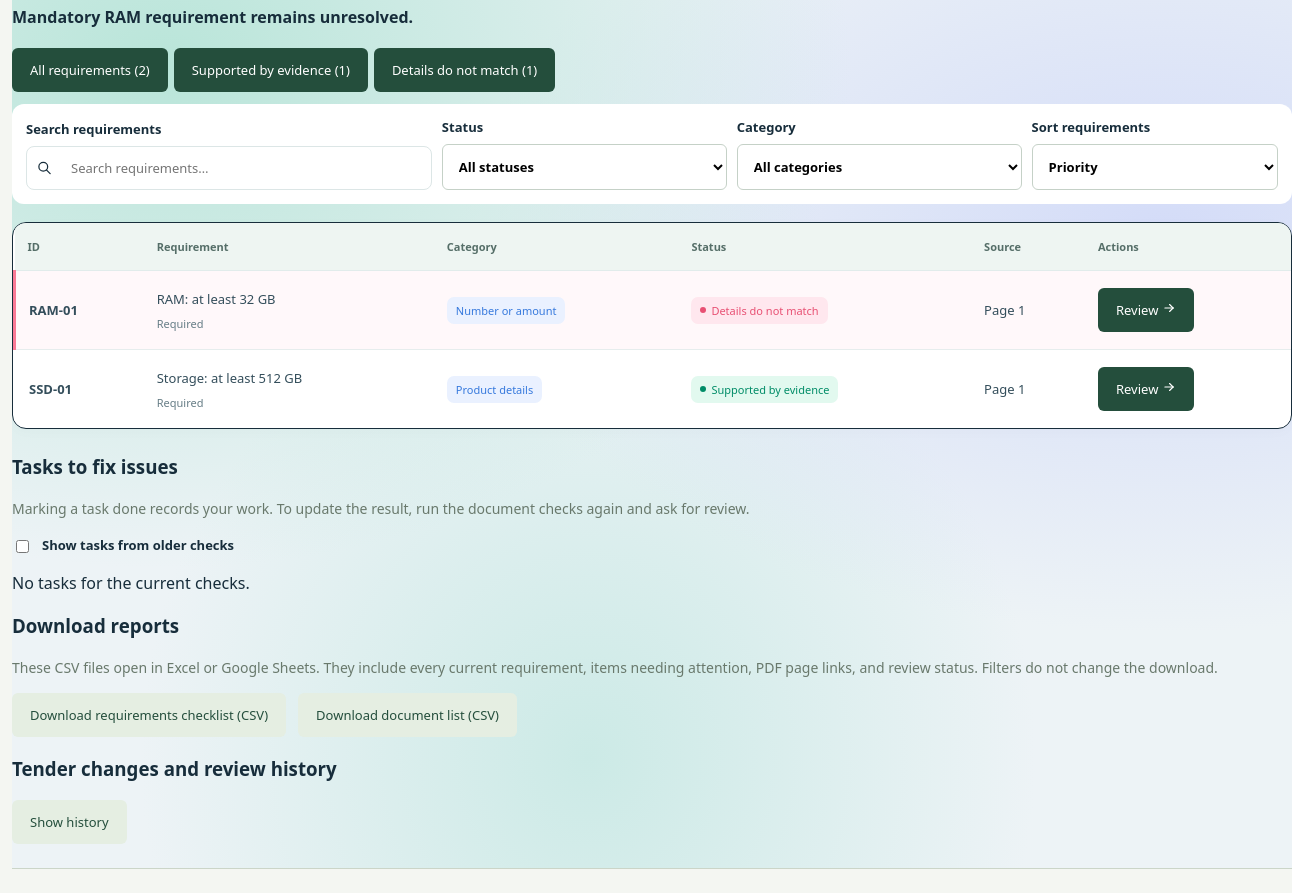
Scenario: supplier dashboard › loads saved version and approval timeline with timestamps
The image size is (1292, 893).
(page scrolled)
Click the button "Show history": (69, 822) [12,800,126,844]
(page scrolled)
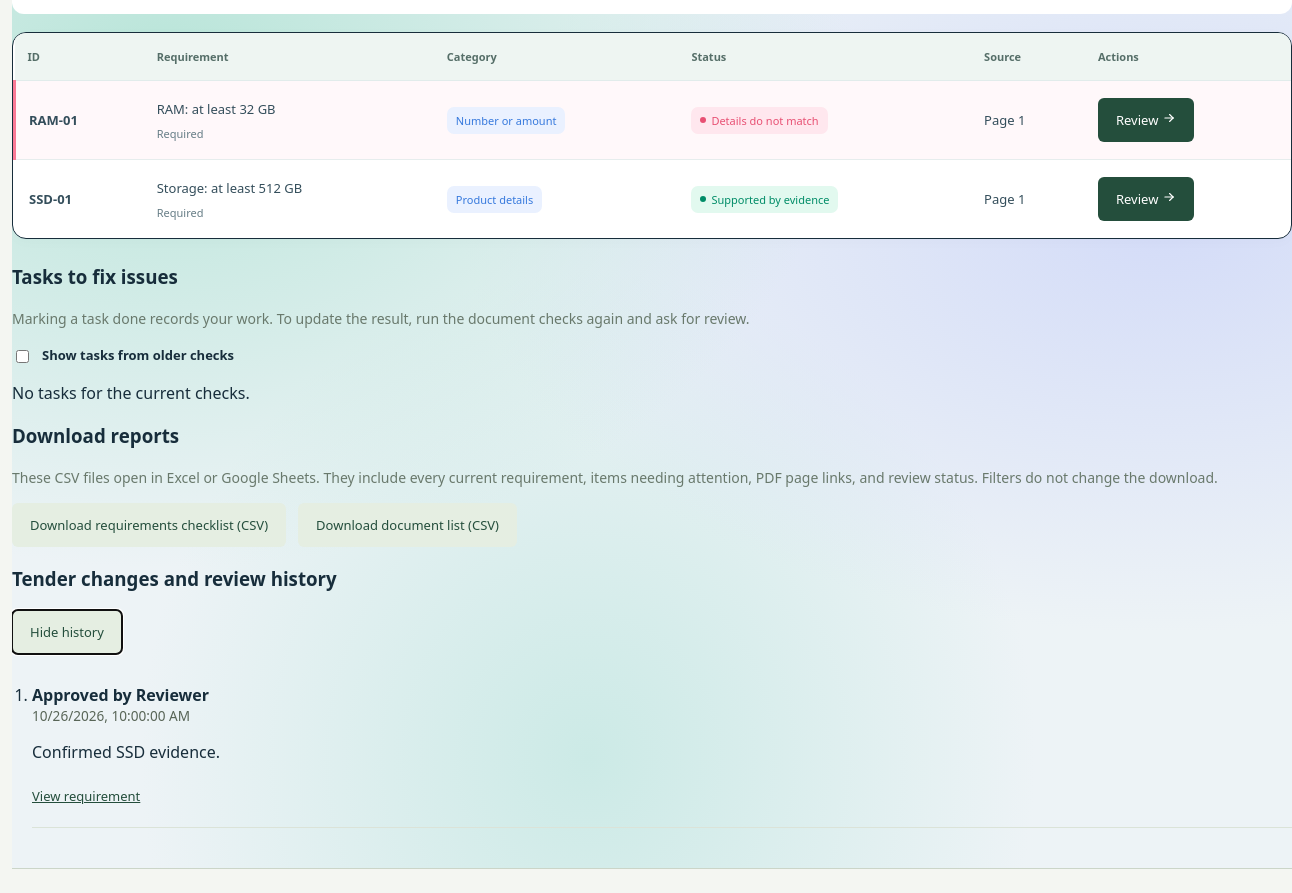
Expected: the text "Approved by Reviewer" is shown, [32,684,209,706]
Expected: the text "Confirmed SSD evidence." is shown, [32,741,220,763]
Expected: the button "View requirement" is shown, [32,779,140,813]
